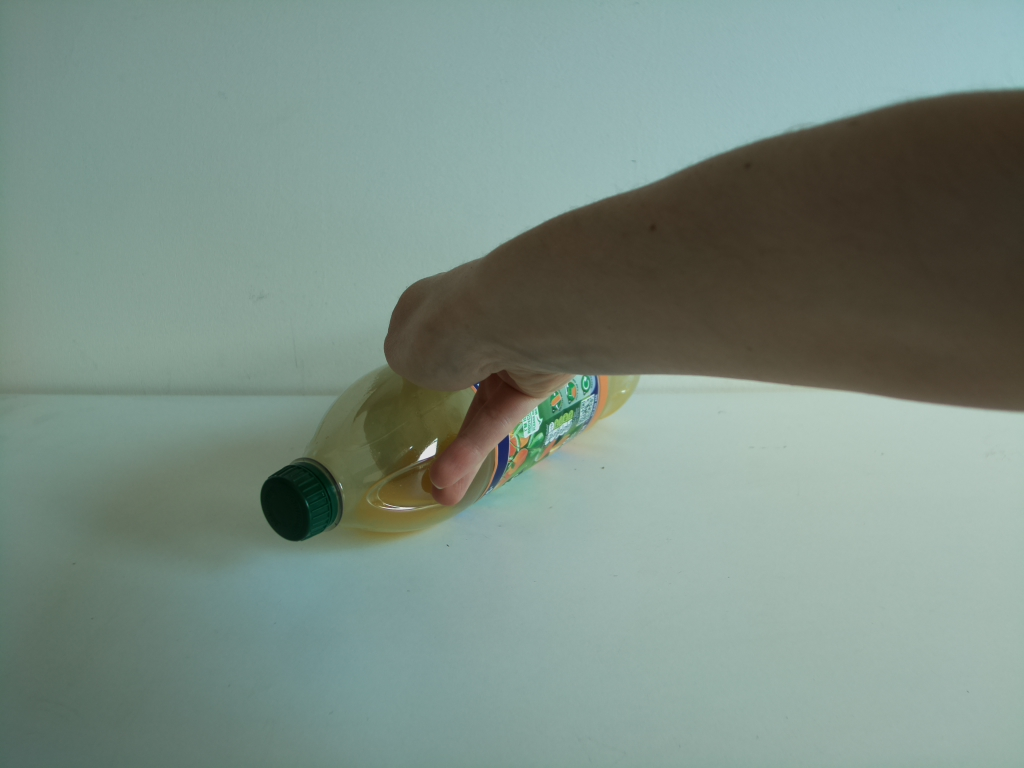juice: (254, 352, 642, 552)
